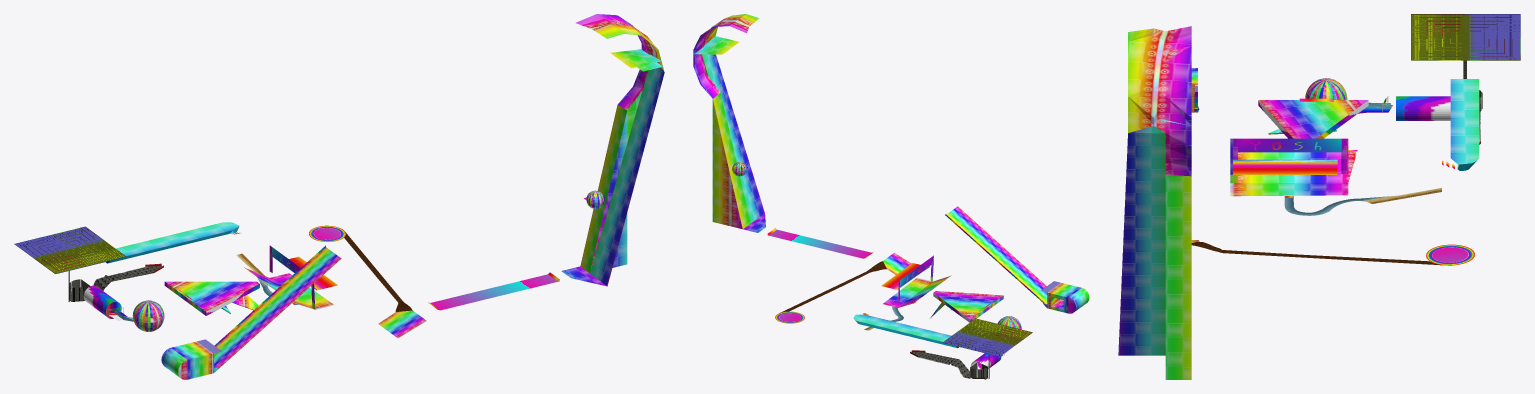
3 views of the same model, side by side, from view 1: azimuth 30°, elevation 25°; view 2: azimuth 150°, elevation 25°; view 3: azimuth 270°, elevation 25° (orthographic). The views are drawn at different scales.
Parts seen in each view (by area): view 1: v4-SKP--two, v4-SKP--one, v4-SKP--iZI, v4-SKP--NOTHIN, v4-SKP--rainbow, v4-SKP--reversed-mc3, v4-SKP--bou; view 2: v4-SKP--two, v4-SKP--one, v4-SKP--iZI, v4-SKP--NOTHIN, v4-SKP--rainbow, v4-SKP--reversed-mc3, v4-SKP--bou, v4-SKP--ef_dushboard; view 3: v4-SKP--two, v4-SKP--iZI, v4-SKP--one, v4-SKP--rainbow, v4-SKP--ef_dushboard, v4-SKP--logo, v4-SKP--bou, v4-SKP--denis, v4-SKP--water, v4-SKP--NOTHIN.
Part boxes in pixels (x1=…): v4-SKP--two: x1=116, y1=14, x2=664, y2=379; v4-SKP--one: x1=106, y1=246, x2=426, y2=379; v4-SKP--iZI: x1=14, y1=226, x2=163, y2=273; v4-SKP--NOTHIN: x1=197, y1=228, x2=559, y2=353; v4-SKP--rainbow: x1=83, y1=225, x2=345, y2=346; v4-SKP--reversed-mc3: x1=68, y1=265, x2=161, y2=315; v4-SKP--bou: x1=344, y1=232, x2=412, y2=311; v4-SKP--two: x1=693, y1=14, x2=1089, y2=341; v4-SKP--one: x1=883, y1=206, x2=1081, y2=329; v4-SKP--iZI: x1=910, y1=318, x2=1032, y2=357; v4-SKP--NOTHIN: x1=767, y1=229, x2=1060, y2=321; v4-SKP--rainbow: x1=775, y1=214, x2=1059, y2=369; v4-SKP--reversed-mc3: x1=911, y1=352, x2=1004, y2=379; v4-SKP--bou: x1=780, y1=261, x2=886, y2=312; v4-SKP--ef_dushboard: x1=760, y1=226, x2=990, y2=315; v4-SKP--two: x1=1118, y1=26, x2=1479, y2=379; v4-SKP--iZI: x1=1411, y1=14, x2=1520, y2=144; v4-SKP--one: x1=1191, y1=69, x2=1368, y2=242; v4-SKP--rainbow: x1=1194, y1=92, x2=1474, y2=265; v4-SKP--ef_dushboard: x1=1233, y1=98, x2=1458, y2=197; v4-SKP--logo: x1=1238, y1=138, x2=1347, y2=152; v4-SKP--bou: x1=1191, y1=241, x2=1442, y2=265; v4-SKP--denis: x1=1284, y1=188, x2=1441, y2=215; v4-SKP--water: x1=1233, y1=102, x2=1390, y2=162; v4-SKP--NOTHIN: x1=1195, y1=86, x2=1468, y2=262.
Bounding box in the file's own units: 257029 × 127610 × 133216.
Materials: 18 (18 with a texture image).
